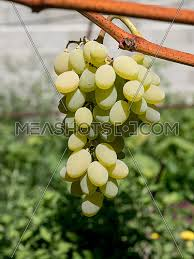grapes: (51, 37, 164, 217)
